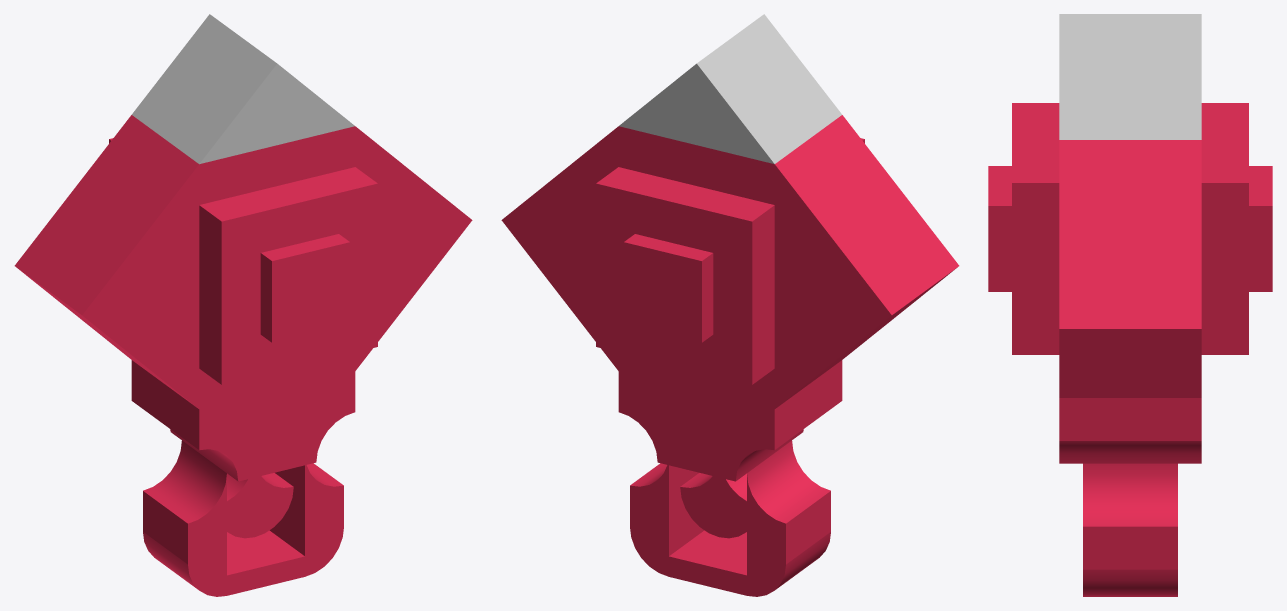
File: bala-skin.obj
The picture shows the model from 3 angles, left to right: view 1: azimuth 30°, elevation 25°; view 2: azimuth 150°, elevation 25°; view 3: azimuth 270°, elevation 25°; orthographic projection. The views are drawn at different scales.
Bounding box in the file's own units: 10 × 13 × 6.
